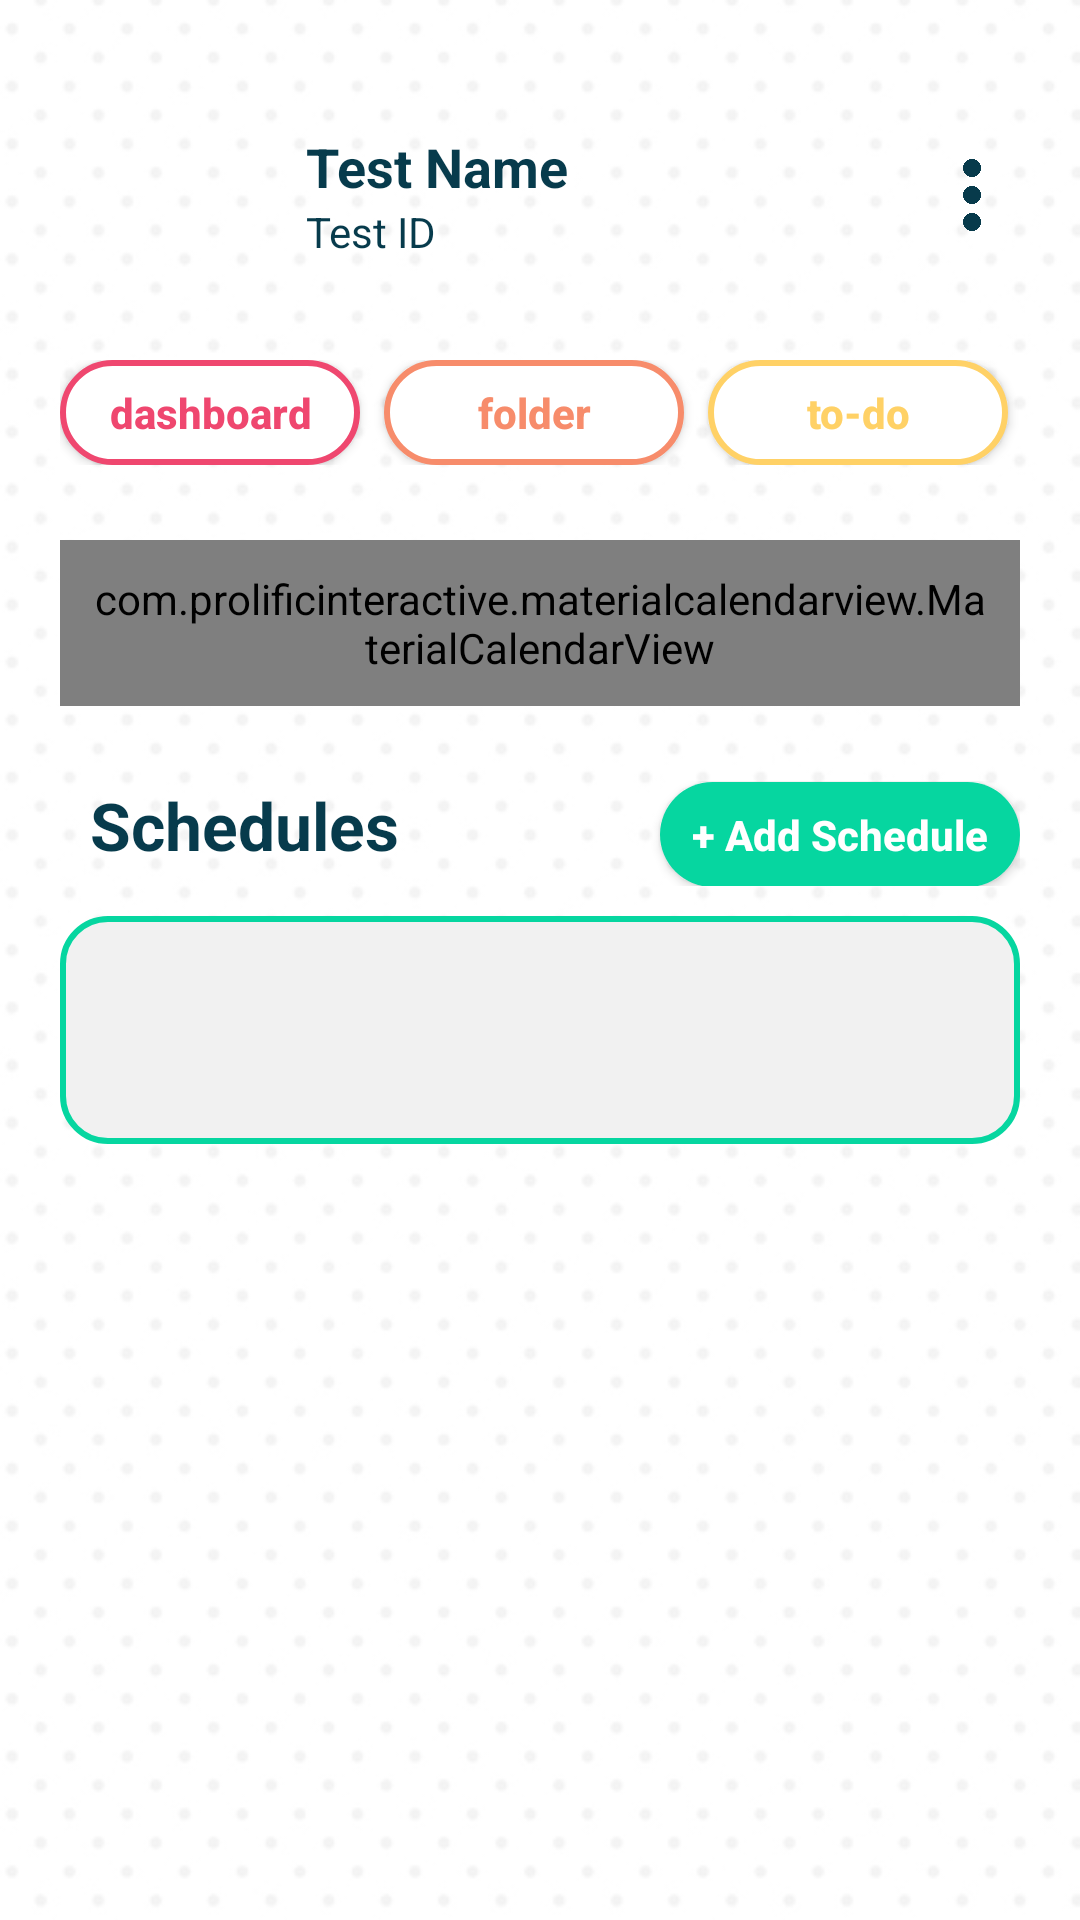

Screen size 1080×1920. Icon name, then its center in pixels as [x,y]:
More Settings: [972,195]
